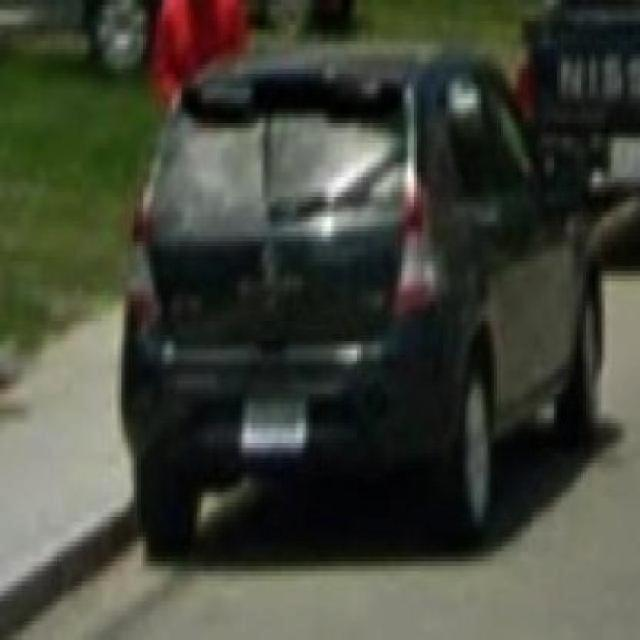car: (130, 54, 608, 562)
